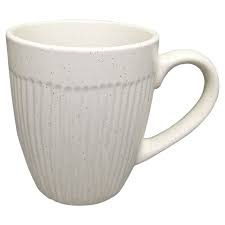mug: (5, 16, 224, 214)
